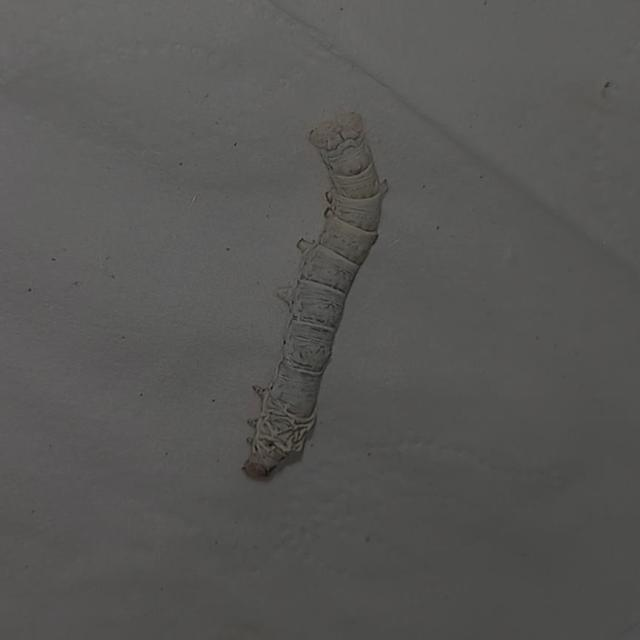Healthy: (220, 88, 399, 497)
